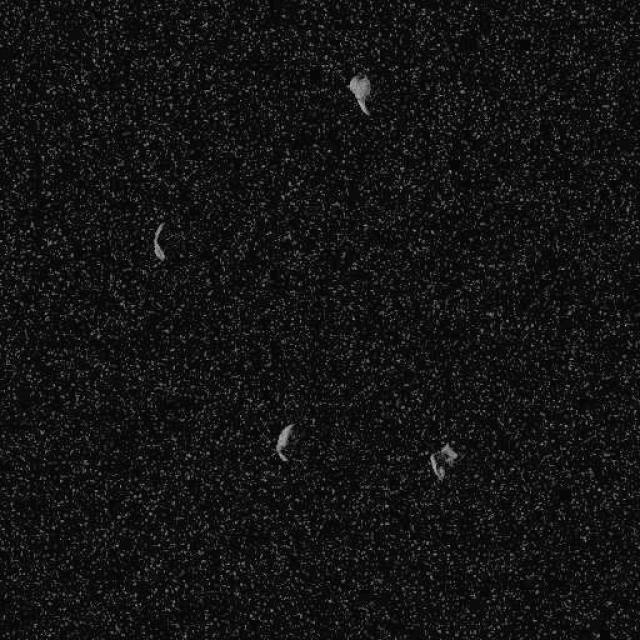D2: (428, 441, 458, 481), (348, 72, 372, 116), (274, 422, 296, 462), (152, 222, 166, 262)
